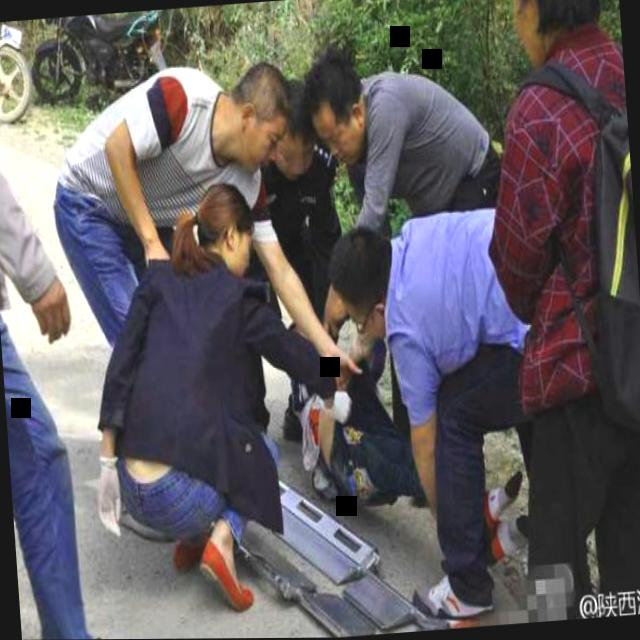Fall-Detected: (294, 244, 562, 616)
